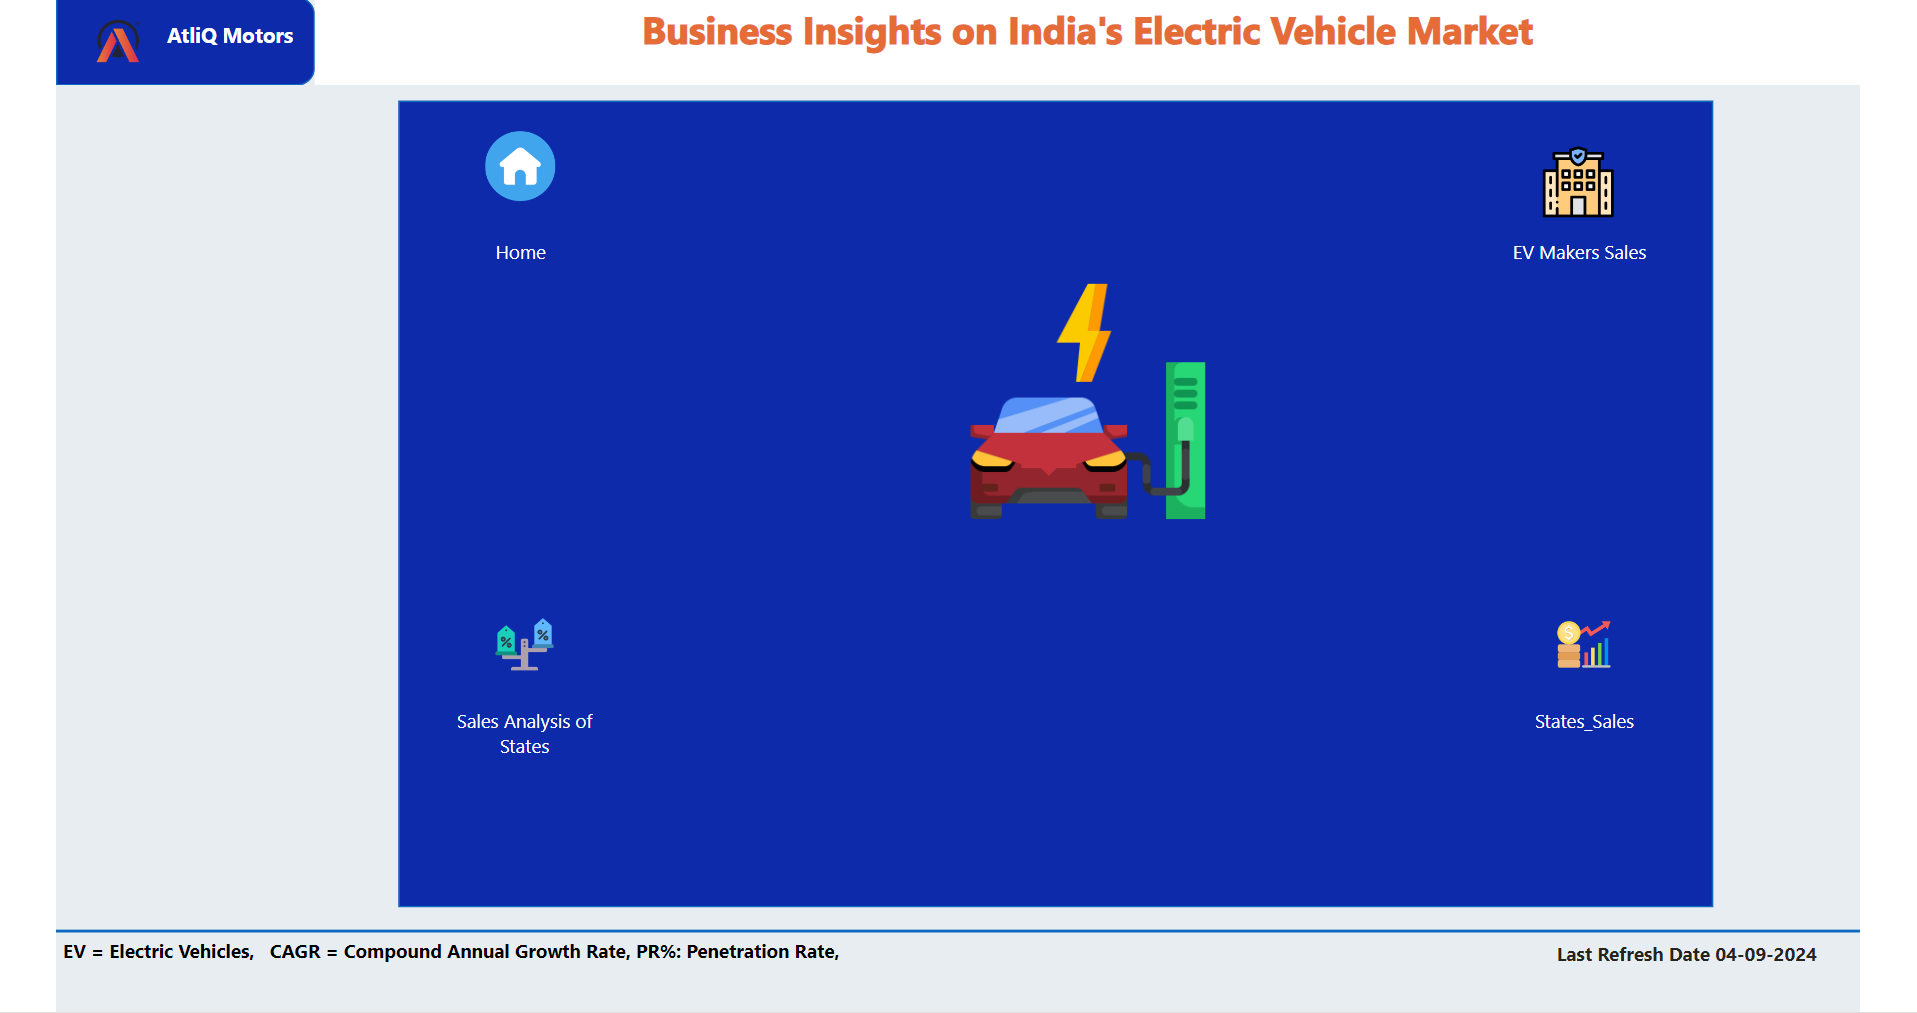

This screenshot's page, from the dashboard's own definition file:
{"tool":"powerbi","page":{"name":" Home","canvas":[1280,720],"ordinal":0},"visuals":[{"type":"shape","box":[243,73.3,932.6,572.1],"z":0},{"type":"shape","box":[0,0,183.7,62.8],"z":1000},{"type":"image","box":[20.6,11,48,41.2],"z":2000},{"type":"textbox","box":[58.1,11.6,125.6,40.7],"z":3000},{"type":"textbox","box":[183.7,0,1096.5,62.8],"z":4000},{"type":"image","box":[300,89.5,59.3,60.5],"z":5000},{"type":"image","box":[1050,359.3,68.6,60.5],"z":6000},{"type":"image","box":[1050,101.2,60.5,60.5],"z":8000},{"type":"image","box":[301.2,360.5,60.5,60.5],"z":9000},{"type":"textbox","box":[265.1,166.3,129.1,52.3],"z":10000},{"type":"textbox","box":[1016.3,166.3,129.1,91.9],"z":11000},{"type":"textbox","box":[1015.1,436,129.1,62.8],"z":12000},{"type":"textbox","box":[266.3,422.1,129.1,70.9],"z":13000},{"type":"shape","box":[0,605.8,1280.2,114],"z":15000},{"type":"image","box":[555.8,193,352.3,187.2],"z":16000},{"type":"textbox","box":[243,498.8,932.6,146.5],"z":17000},{"type":"shape","box":[243,493,932.6,10.5],"z":18000},{"type":"textbox","box":[0,662.8,584.9,57],"z":19000},{"type":"textbox","box":[1050,662.8,230.2,57],"z":20000}]}

Visuals, with their boxes on the page's 1280x720 design canvas (x1, y1, x2, y2). These are canvas units, not pixel positions in the 1917x1013 screenshot, which may show the page scaled, cropped or inside an application window:
shape: (left=243, top=73, right=1176, bottom=645)
shape: (left=0, top=0, right=184, bottom=63)
image: (left=21, top=11, right=69, bottom=52)
textbox: (left=58, top=12, right=184, bottom=52)
textbox: (left=184, top=0, right=1280, bottom=63)
image: (left=300, top=90, right=359, bottom=150)
image: (left=1050, top=359, right=1119, bottom=420)
image: (left=1050, top=101, right=1110, bottom=162)
image: (left=301, top=360, right=362, bottom=421)
textbox: (left=265, top=166, right=394, bottom=219)
textbox: (left=1016, top=166, right=1145, bottom=258)
textbox: (left=1015, top=436, right=1144, bottom=499)
textbox: (left=266, top=422, right=395, bottom=493)
shape: (left=0, top=606, right=1280, bottom=720)
image: (left=556, top=193, right=908, bottom=380)
textbox: (left=243, top=499, right=1176, bottom=645)
shape: (left=243, top=493, right=1176, bottom=504)
textbox: (left=0, top=663, right=585, bottom=720)
textbox: (left=1050, top=663, right=1280, bottom=720)
